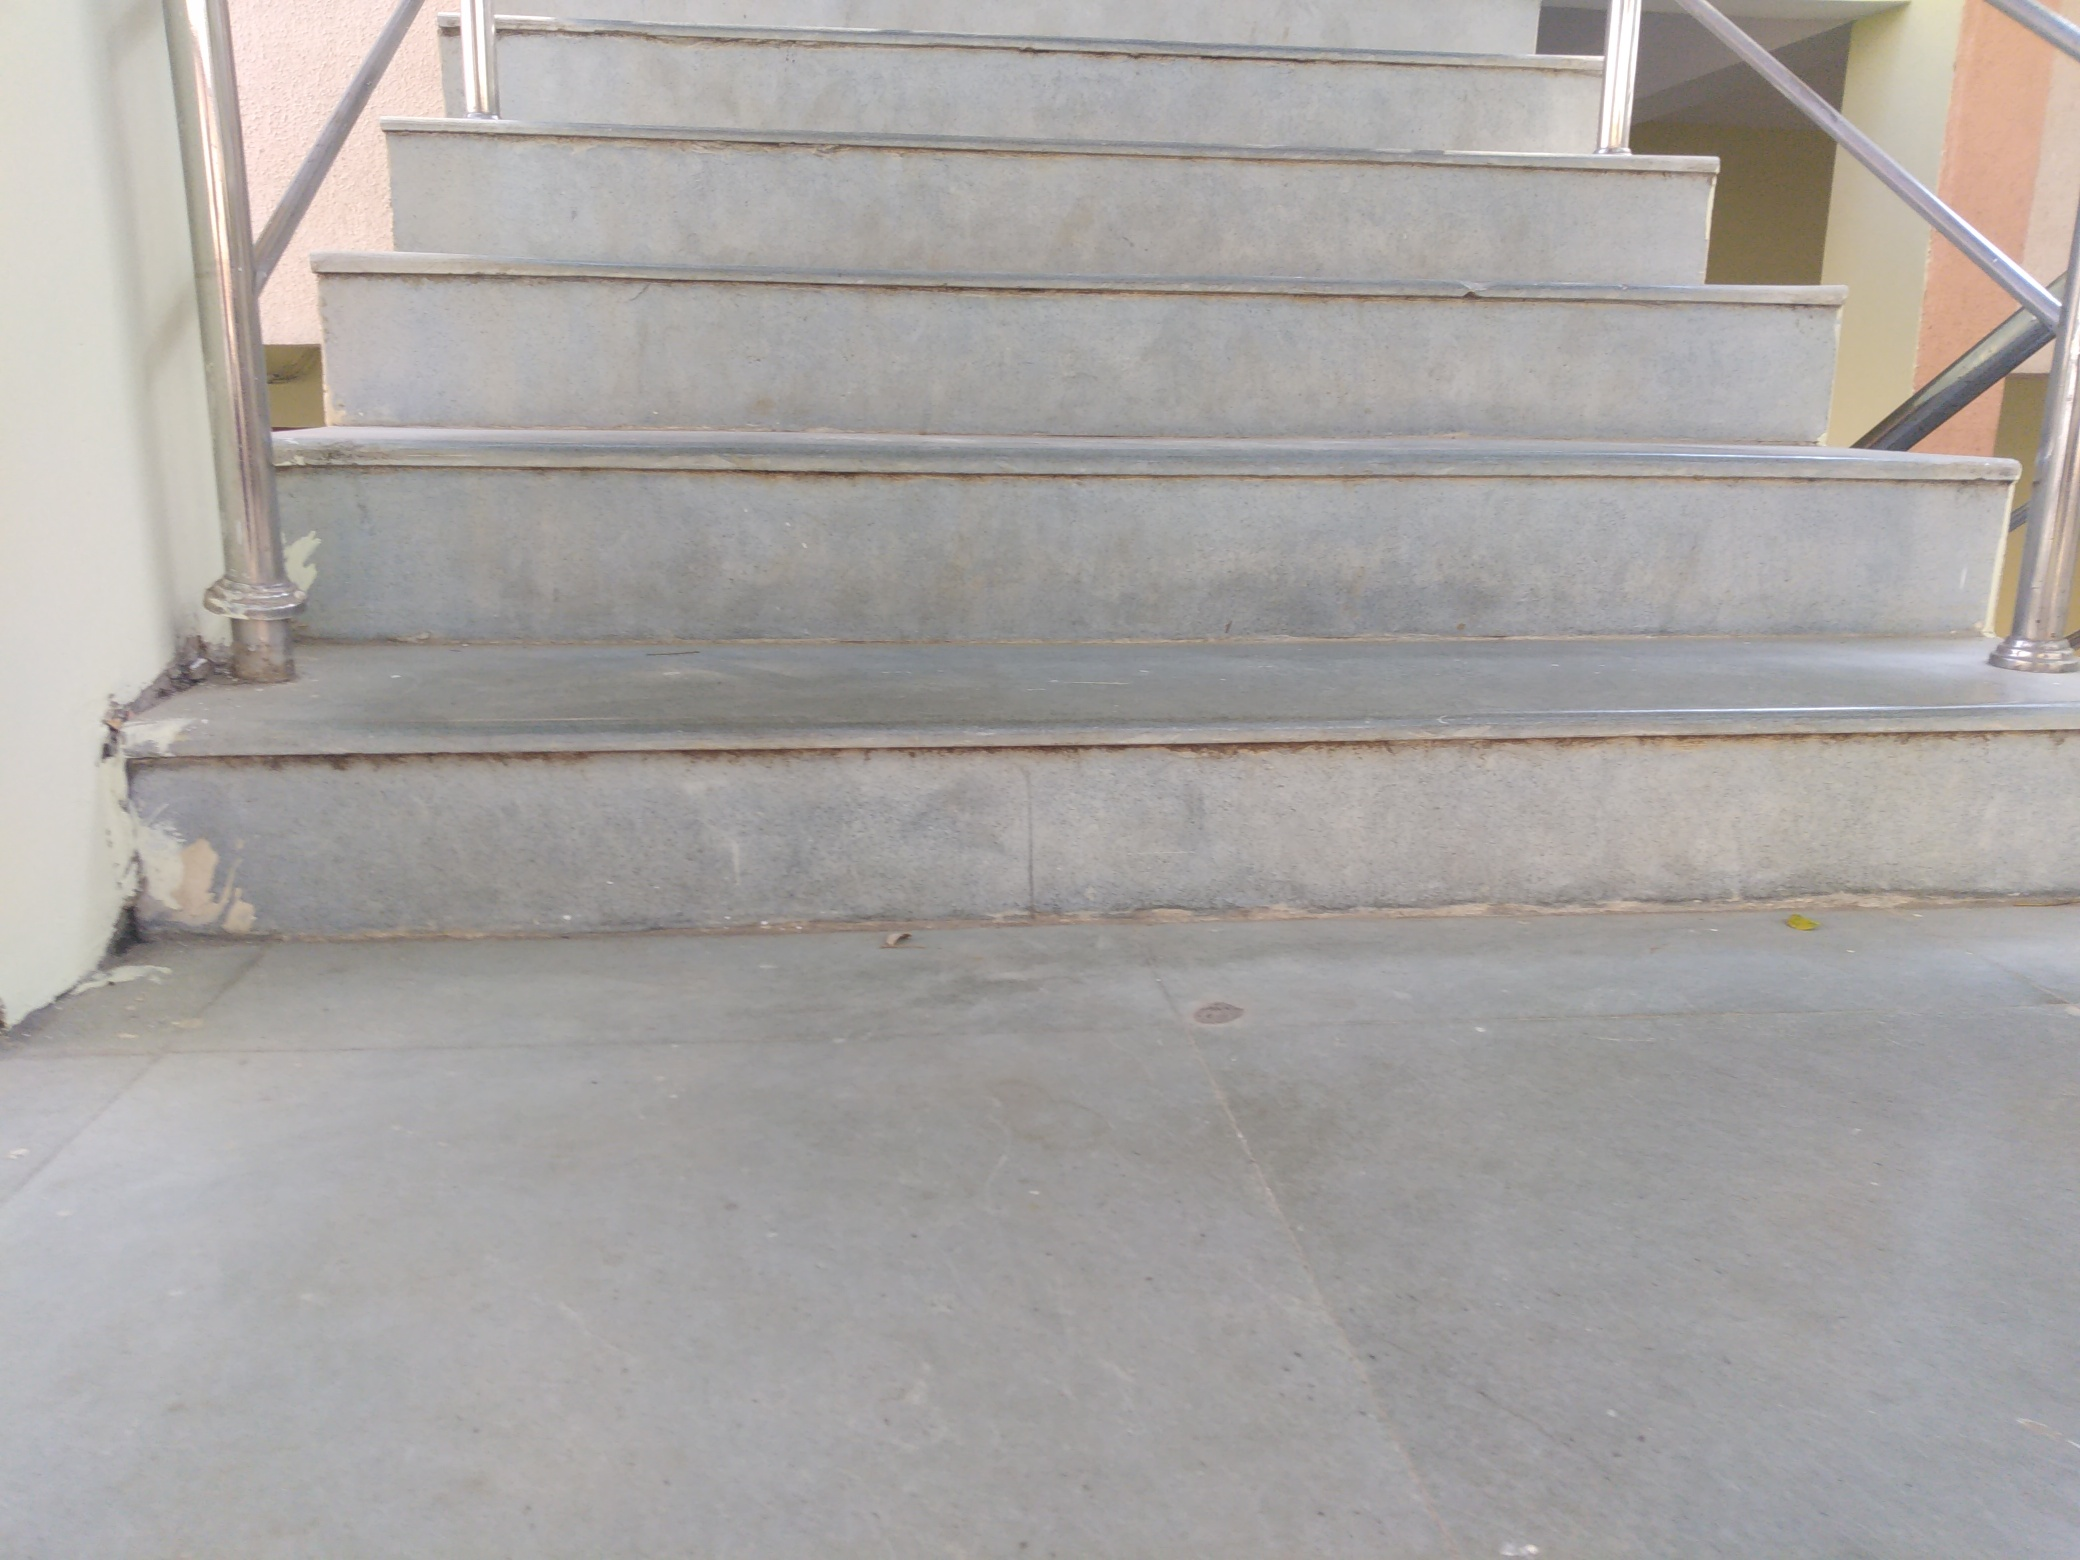stairs_up: (233, 16, 2041, 944)
